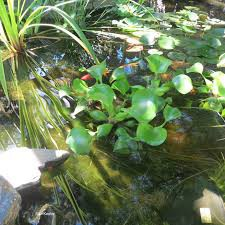water_hyacinth: (59, 51, 196, 160)
